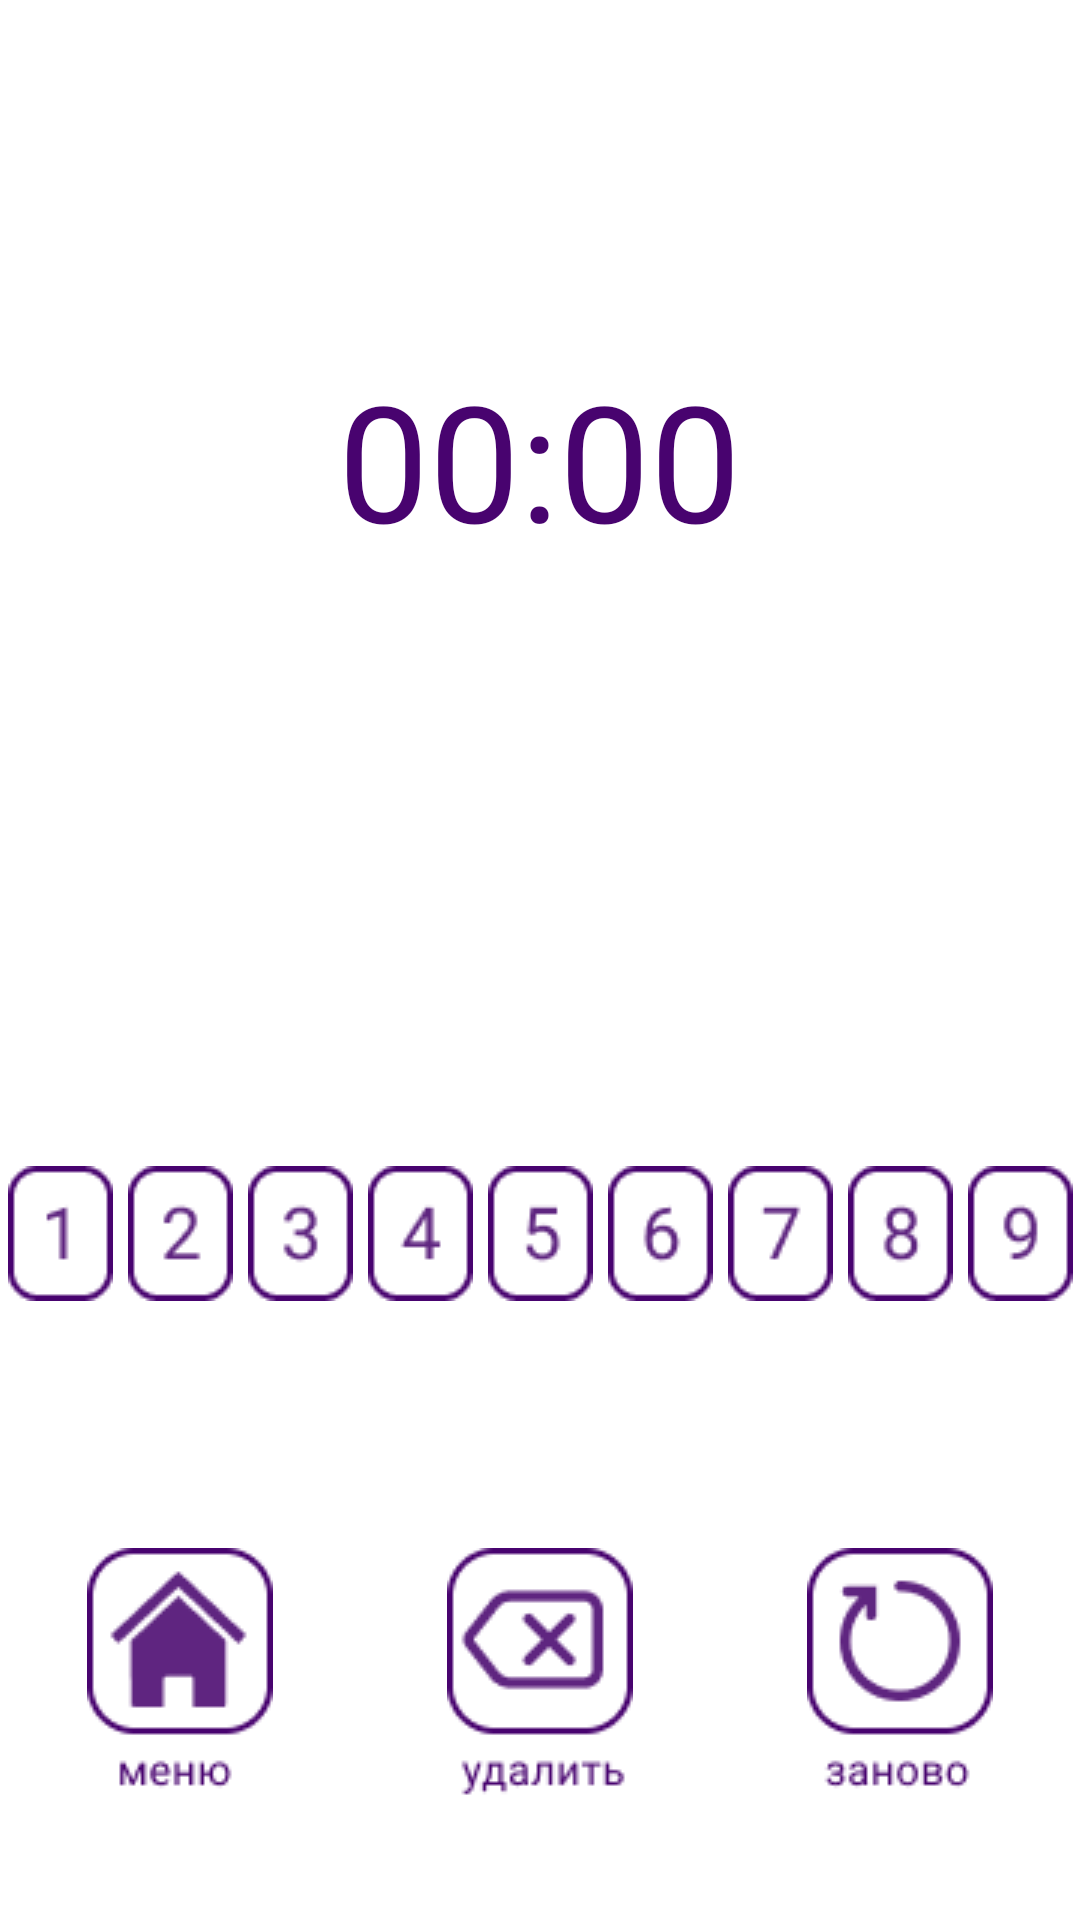

Screen size 1080×1920. Icon name, then its box in pixels as (x1, y1, x2, y2):
home: (87, 1548, 273, 1787)
